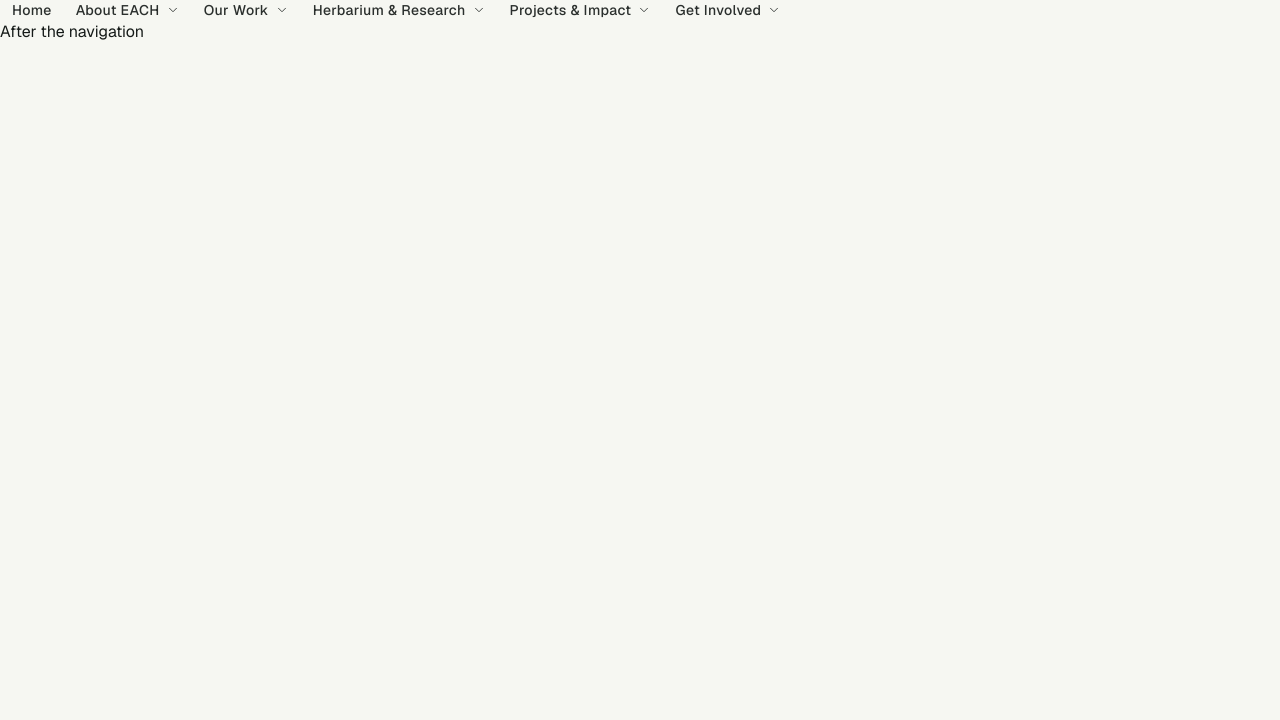
DesktopNav › opens on click, points aria-controls at the panel and reports the change
Click the button "Herbarium & Research" at (399, 10), box x1=301 y1=0 x2=498 y2=20
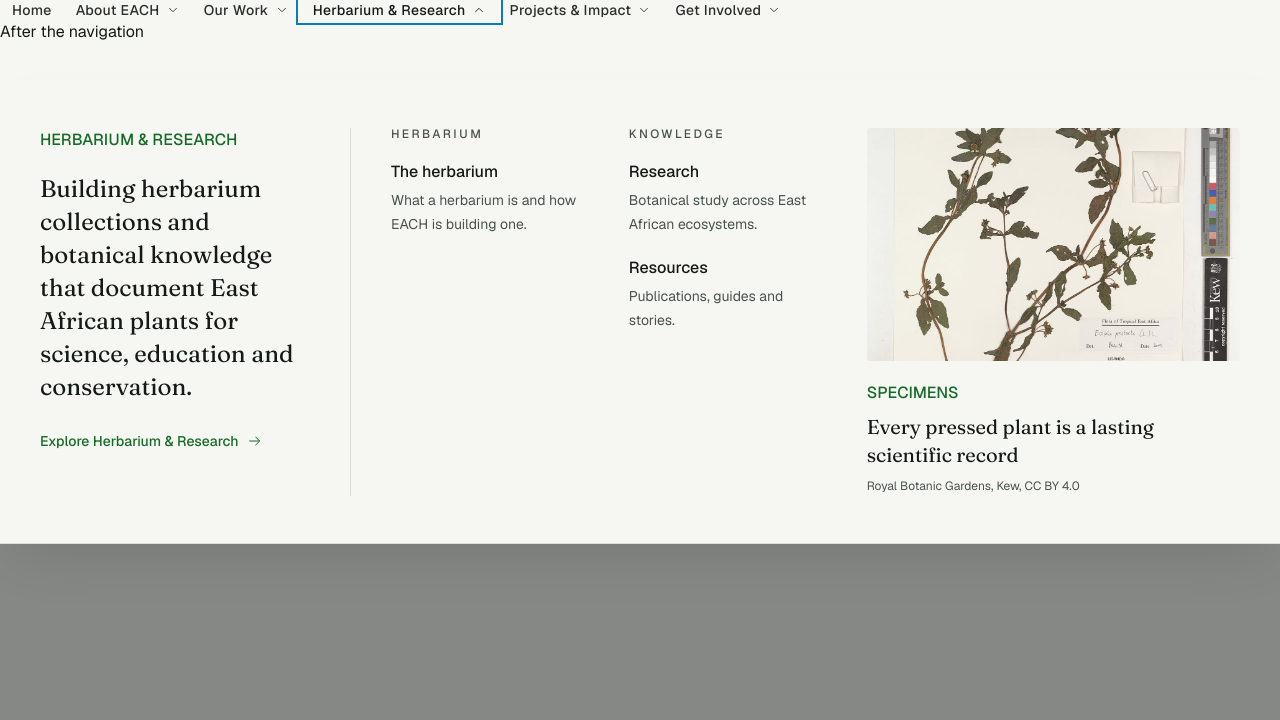
Check: the button "Herbarium & Research" is expanded, box x1=301 y1=0 x2=498 y2=20
Check: the element with id "mega-menu-herbarium" is shown
Check: the element with id "mega-menu-herbarium" shows "Resources", box x1=629 y1=256 x2=827 y2=332
